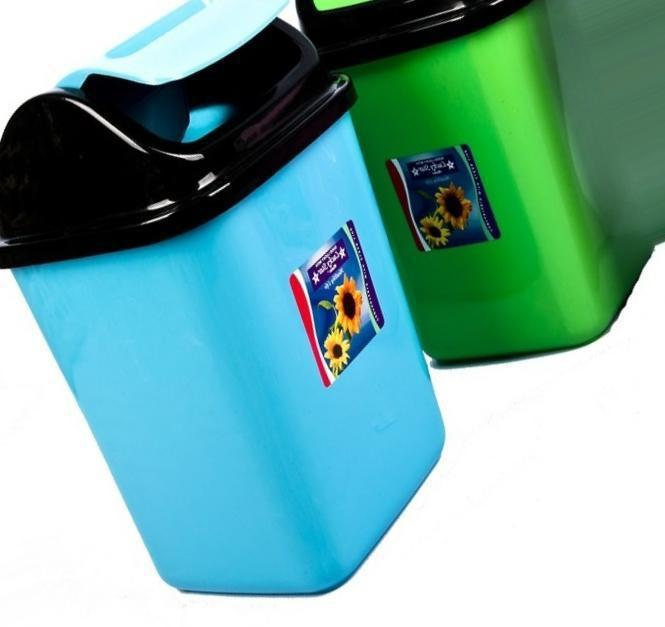Bote de Basura: (0, 21, 442, 604), (282, 0, 664, 369)
